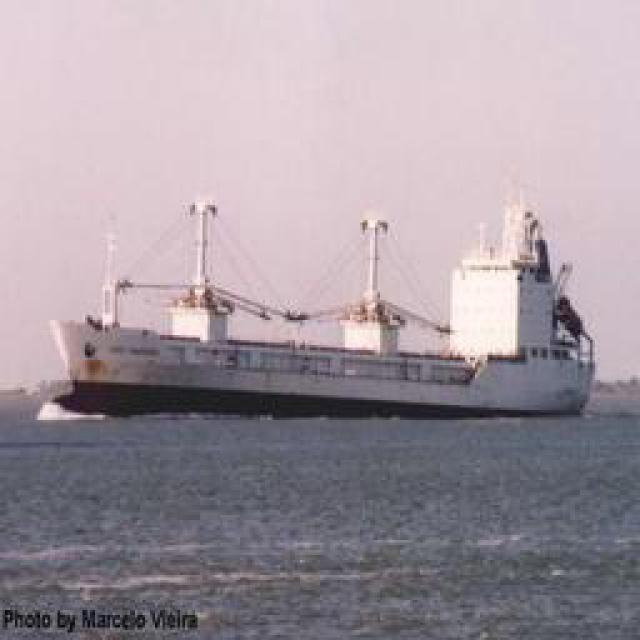Ship: (57, 191, 600, 421)
